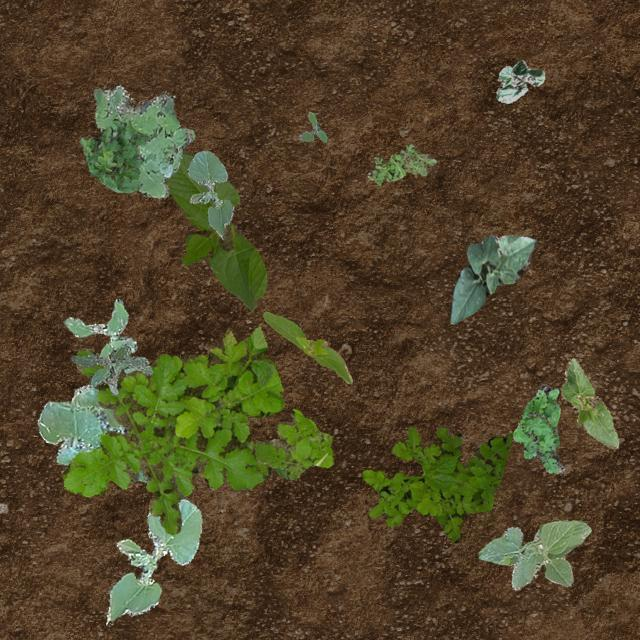crop: (164, 148, 266, 310), (36, 366, 146, 482), (106, 498, 200, 622), (478, 518, 590, 590), (448, 234, 536, 324), (262, 310, 352, 382), (560, 358, 618, 448), (186, 150, 232, 238), (494, 59, 544, 102)
weed: (62, 324, 282, 534), (361, 424, 512, 542), (91, 84, 192, 198), (250, 408, 332, 480), (78, 118, 148, 192), (512, 384, 564, 472), (62, 298, 136, 358), (70, 340, 152, 394), (366, 143, 436, 184), (296, 110, 326, 142)
